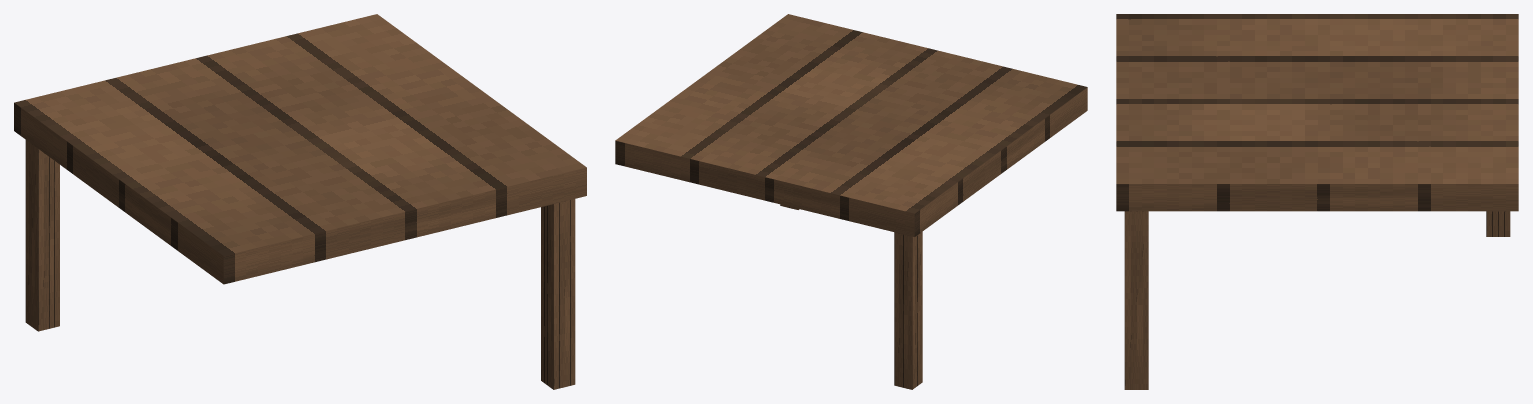
File: floor_platform.obj
3 views of the same model, side by side, from view 1: azimuth 30°, elevation 25°; view 2: azimuth 150°, elevation 25°; view 3: azimuth 270°, elevation 25° (orthographic). The views are drawn at different scales.
Visible parts, largest first — view 1: part0, part2, part1; view 2: part0, part1; view 3: part0, part2, part1.
Part boxes in pixels (x1,y1,x2,y2): part0: (14, 14, 586, 284); part2: (541, 199, 575, 389); part1: (25, 140, 59, 331); part0: (615, 14, 1087, 236); part1: (894, 232, 922, 389); part0: (1116, 14, 1518, 211); part2: (1124, 211, 1148, 389); part1: (1486, 211, 1510, 236).
Bounding box in the file's own units: 2 × 1.15 × 2.
3 materials, 3 textured.
